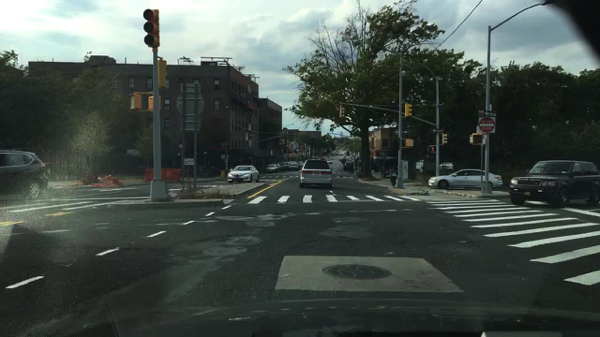car: (508, 159, 600, 209), (0, 150, 50, 203), (428, 167, 503, 191), (299, 158, 334, 189), (226, 165, 259, 184), (265, 164, 279, 172), (289, 160, 298, 171), (343, 162, 353, 171), (281, 161, 288, 169), (344, 158, 353, 164), (327, 158, 333, 164), (298, 160, 303, 167)
person: (388, 166, 397, 187)
traffic light: (143, 8, 160, 48), (156, 55, 167, 86), (128, 92, 140, 110), (468, 132, 484, 145), (147, 96, 161, 110), (401, 139, 413, 148), (404, 102, 411, 117), (338, 106, 344, 118), (441, 133, 447, 145), (427, 144, 436, 152), (324, 133, 329, 142), (220, 154, 225, 160), (282, 138, 285, 148), (277, 139, 281, 146)
traffic sign: (177, 81, 205, 133), (476, 118, 496, 133), (477, 110, 495, 118)
